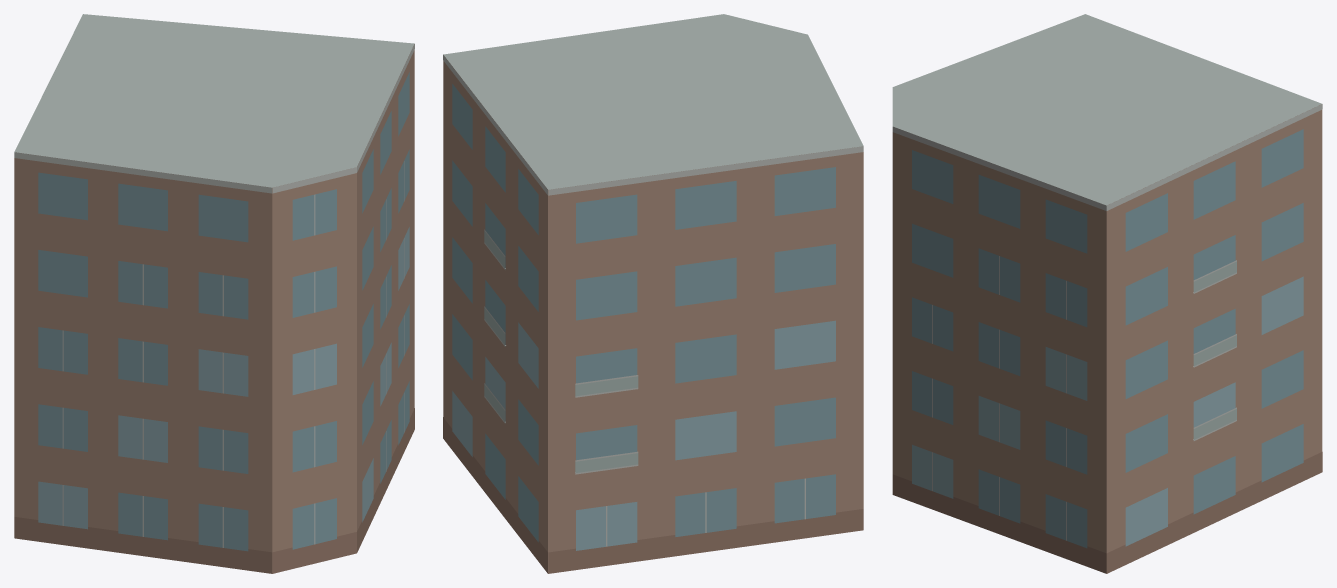
File: survey-upis-32845341.glb
3 renders of one model, left to right at view 1: azimuth 30°, elevation 25°; view 2: azimuth 150°, elevation 25°; view 3: azimuth 270°, elevation 25°, orthographic. The views are drawn at different scales.
Parts seen in each view (by area): view 1: survey-upis-32845341.tmp; view 2: survey-upis-32845341.tmp; view 3: survey-upis-32845341.tmp.
Boxes of the visible parts, left/top/right/bottom form: survey-upis-32845341.tmp: left=14, top=14, right=414, bottom=573; survey-upis-32845341.tmp: left=443, top=14, right=863, bottom=573; survey-upis-32845341.tmp: left=892, top=14, right=1322, bottom=573.
Bounding box in the file's own units: 17.85 × 16 × 16.94.
